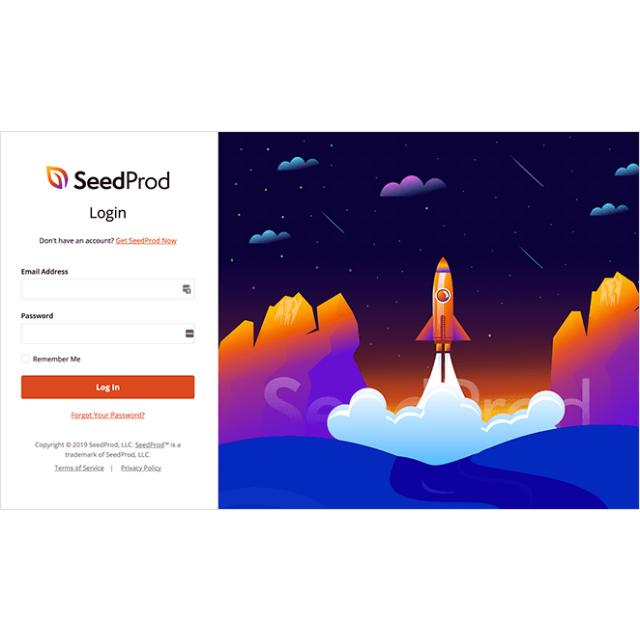QLabel: (35, 438, 182, 458), (68, 411, 148, 421), (86, 205, 132, 221), (36, 236, 114, 244), (116, 237, 176, 245), (54, 464, 104, 472), (33, 355, 81, 363), (120, 464, 162, 472), (22, 268, 68, 274), (22, 312, 54, 320), (95, 383, 121, 392)
VBtn: (21, 373, 196, 399), (54, 463, 104, 472), (120, 463, 162, 472)
VCheckbox: (20, 352, 30, 363)
VDivider: (111, 464, 113, 472)
VImg: (220, 130, 640, 510), (41, 160, 176, 194)
VTextField: (20, 277, 196, 301), (21, 321, 196, 345)
